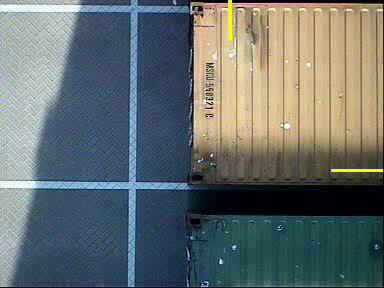groundmarker_2: (182, 1, 255, 101)
